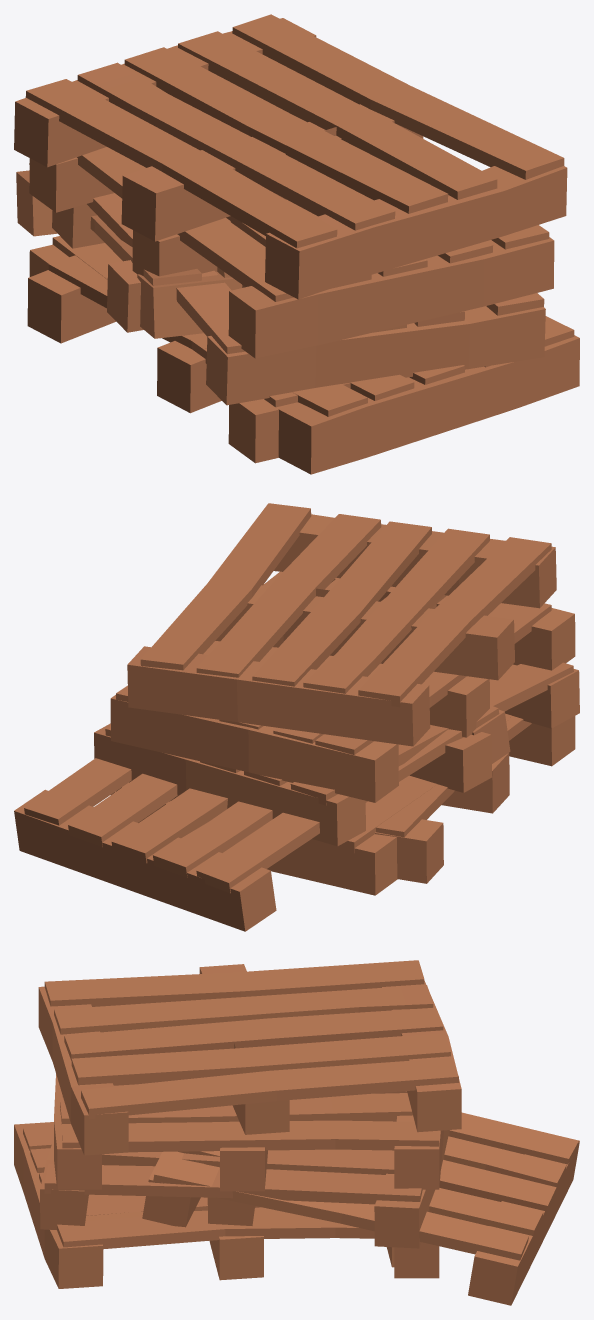
File: Palet2.fbx
3 views of the same model, one above another, from view 1: azimuth 30°, elevation 25°; view 2: azimuth 150°, elevation 25°; view 3: azimuth 270°, elevation 25° (orthographic). The views are drawn at different scales.
Visible parts, largest first — view 1: Cube.006, Cube.005, Cube.003, Cube.004, Cube.001, Cube.002; view 2: Cube.006, Cube.001, Cube.005, Cube.004, Cube.002, Cube.003; view 3: Cube.006, Cube.001, Cube.005, Cube.004, Cube.003, Cube.002.
Part boxes in pixels (bbox=[...]): Cube.006: bbox=[14, 14, 567, 299]; Cube.005: bbox=[29, 147, 554, 358]; Cube.003: bbox=[27, 255, 579, 474]; Cube.004: bbox=[52, 193, 545, 405]; Cube.001: bbox=[16, 163, 242, 338]; Cube.002: bbox=[29, 236, 350, 463]; Cube.006: bbox=[127, 503, 556, 746]; Cube.001: bbox=[14, 705, 510, 931]; Cube.005: bbox=[110, 571, 575, 802]; Cube.004: bbox=[94, 662, 579, 846]; Cube.002: bbox=[111, 716, 575, 895]; Cube.003: bbox=[169, 713, 511, 883]; Cube.006: bbox=[38, 960, 461, 1155]; Cube.001: bbox=[142, 1112, 579, 1305]; Cube.005: bbox=[54, 1074, 443, 1191]; Cube.004: bbox=[40, 1130, 449, 1248]; Cube.003: bbox=[14, 1122, 394, 1288]; Cube.002: bbox=[85, 1165, 439, 1278].
Size of the model in its own units: 131 by 72.27 by 194.
